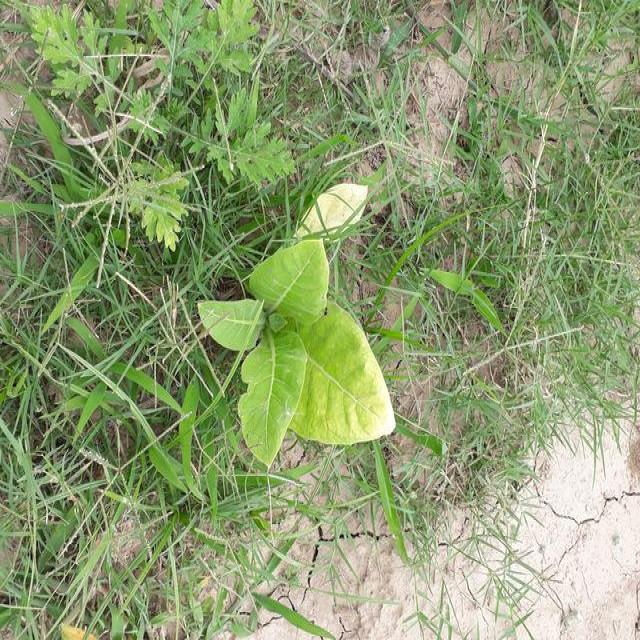crop: (190, 182, 391, 446)
